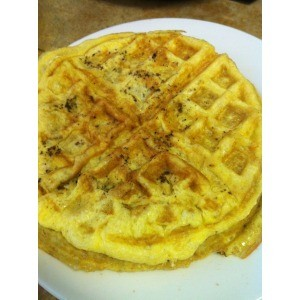egg_brain food: (107, 102, 187, 187)
